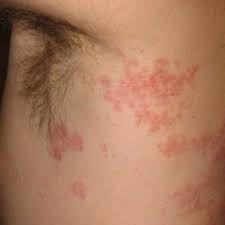herpes: (106, 54, 211, 164)
